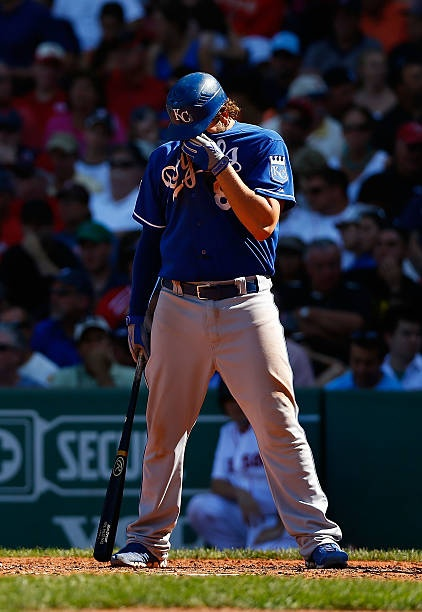bita: (94, 342, 153, 559)
